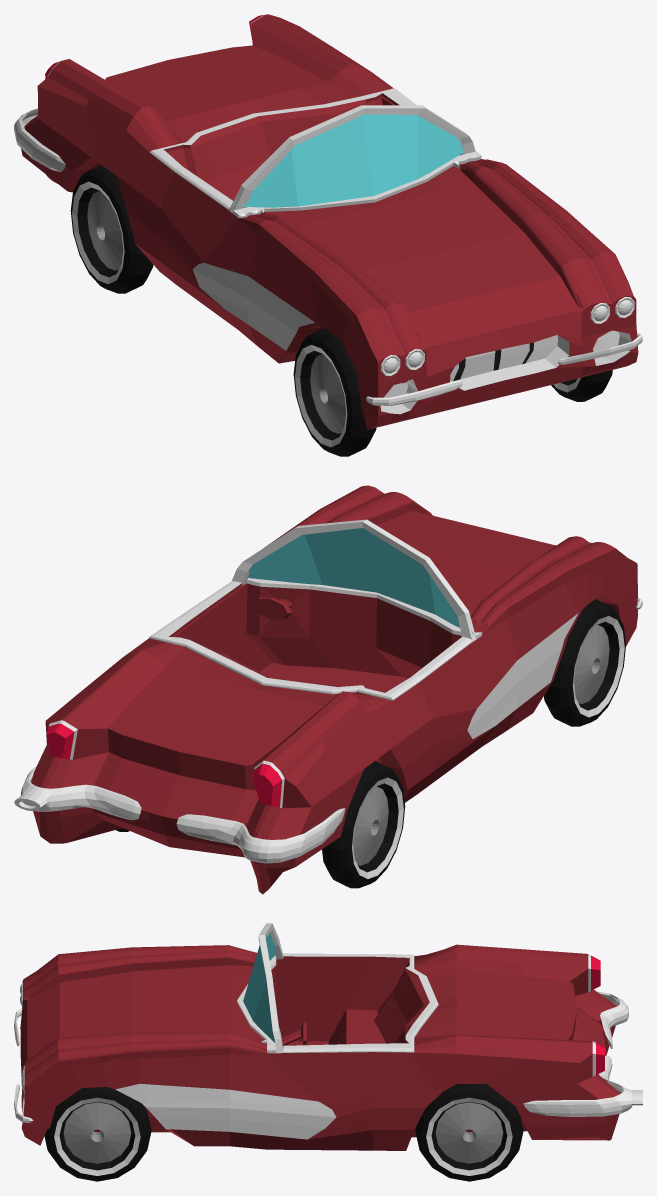
Rendered from araccorvette.fbx.
3 views of the same model, one above another, from view 1: azimuth 30°, elevation 25°; view 2: azimuth 150°, elevation 25°; view 3: azimuth 270°, elevation 25° (orthographic). The views are drawn at different scales.
Parts seen in each view (by area): view 1: Sphere, Torus.003, Torus.002, Torus.001; view 2: Sphere, Torus.003, Torus.002; view 3: Sphere, Torus, Torus.001.
Part boxes in pixels (x1,y1,x2,y2): Sphere: (14, 14, 642, 429); Torus.003: (293, 328, 376, 456); Torus.002: (70, 165, 153, 293); Torus.001: (551, 370, 612, 401); Sphere: (14, 485, 642, 894); Torus.003: (544, 599, 625, 726); Torus.002: (322, 761, 405, 888); Sphere: (14, 923, 642, 1150); Torus: (415, 1084, 523, 1181); Torus.001: (44, 1087, 151, 1181).
Size of the model in its own units: 217 by 180 by 509.
